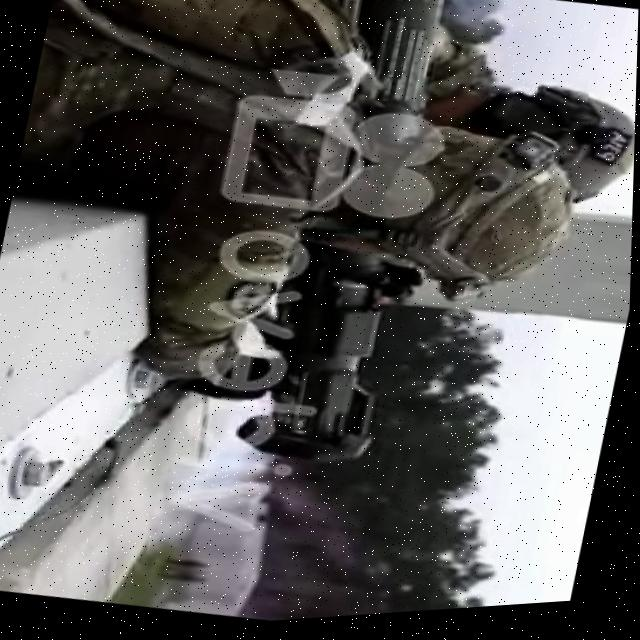rocket: (235, 0, 462, 484)
